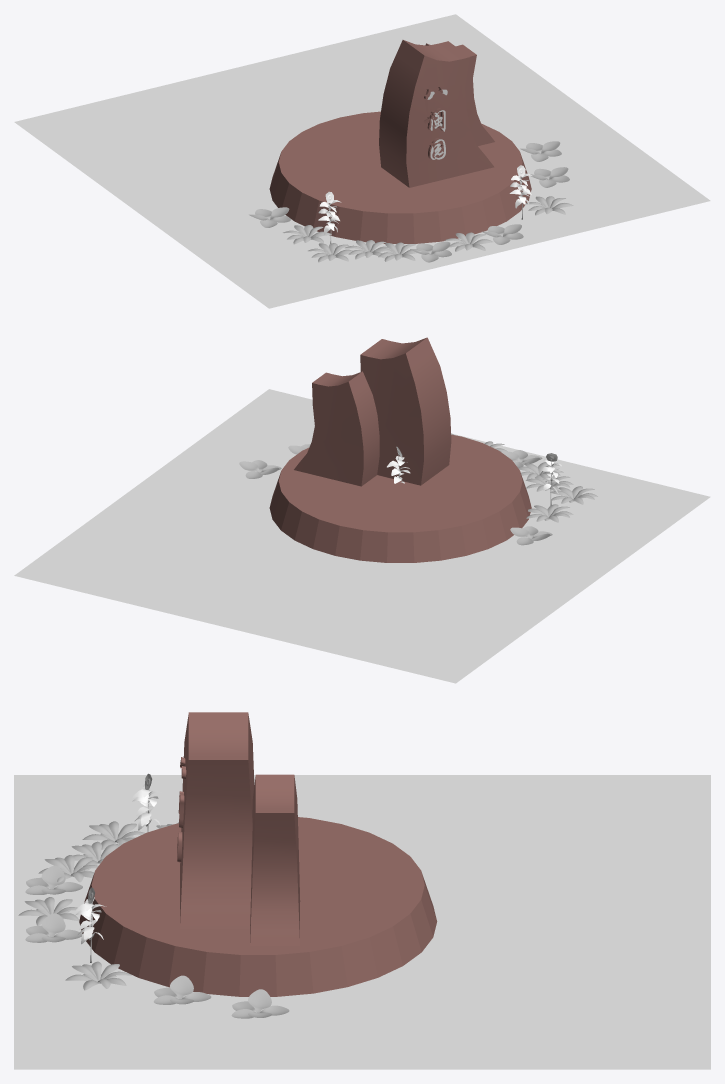
Rendered from 八闽园.fbx.
The picture shows the model from 3 angles, top to bottom: view 1: azimuth 30°, elevation 25°; view 2: azimuth 150°, elevation 25°; view 3: azimuth 270°, elevation 25°; orthographic projection. The views are drawn at different scales.
Parts seen in each view (by area): view 1: 平面, 柱体, 立方体, 立方体.001, Weed.002, Weed.005, Weed.001, Weed.003, Weed.004, Dandelion.005, Dandelion.001, Dandelion.004 (+5 smaller); view 2: 平面, 柱体, 立方体, 立方体.001; view 3: 平面, 柱体, 立方体, 立方体.001, Dandelion.004, Weed.002, Weed.005, Weed.003, Weed.004, Dandelion.002, Dandelion.005, Dandelion.006 (+3 smaller).
Boxes of the visible parts, x1,y1,x2,y2 form: 平面: (14,14,710,308); 柱体: (269,111,531,243); 立方体: (379,40,494,187); 立方体.001: (425,43,494,145); Weed.002: (520,141,561,161); Weed.005: (482,224,523,244); Weed.001: (249,207,290,227); Weed.003: (530,167,569,187); Weed.004: (410,241,451,262); Dandelion.005: (444,232,493,251); Dandelion.001: (283,225,331,244); Dandelion.004: (525,196,573,215); 平面: (14,389,710,683); 柱体: (269,434,531,562); 立方体: (360,337,451,485); 立方体.001: (294,371,379,486); 平面: (14,775,710,1069); 柱体: (79,817,437,996); 立方体: (177,712,254,928); 立方体.001: (250,774,300,945); Dandelion.004: (65,961,131,990); Weed.002: (231,989,289,1018); Weed.005: (25,913,82,942); Weed.003: (153,975,211,1004); Weed.004: (25,865,82,894); Dandelion.002: (82,821,144,849); Dandelion.005: (18,897,79,925); Dandelion.006: (38,855,98,882).
Size of the model in its own units: 1662 by 609 by 1662.
